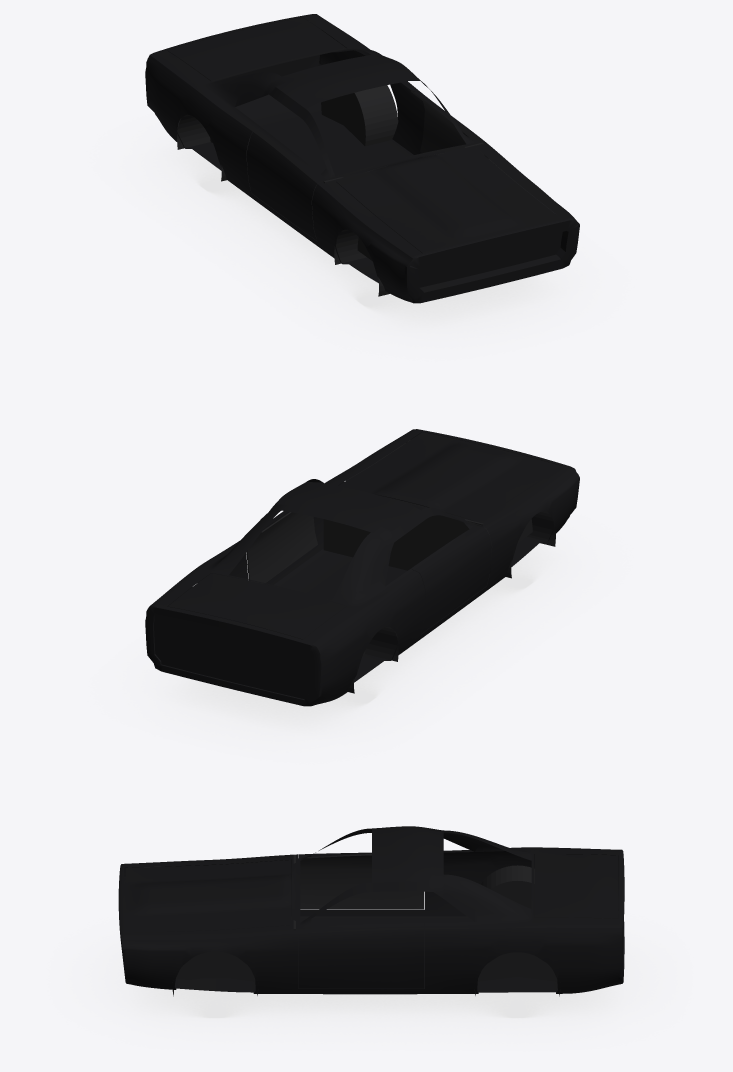
The model's file is carroceria.glb.
3 renders of one model, top to bottom at view 1: azimuth 30°, elevation 25°; view 2: azimuth 150°, elevation 25°; view 3: azimuth 270°, elevation 25°, orthographic. The views are drawn at different scales.
Parts seen in each view (by area): view 1: carroceria, piso_sombra, capot, baul, pasaruedas, puerta_der, puerta_izq; view 2: carroceria, piso_sombra, capot, baul, puerta_der, vano_motor, puerta_izq, pasaruedas; view 3: carroceria, piso_sombra, capot, puerta_izq, baul, puerta_der, pasaruedas, vano_motor.
Part boxes in pixels (box(x1,y1,x2,y2)): carroceria: box(145, 14, 579, 303); piso_sombra: box(146, 138, 577, 337); capot: box(336, 147, 561, 253); baul: box(168, 17, 346, 81); pasaruedas: box(177, 85, 398, 296); puerta_der: box(246, 127, 328, 240); puerta_izq: box(411, 90, 488, 158); carroceria: box(145, 429, 579, 706); piso_sombra: box(145, 538, 577, 739); capot: box(338, 432, 561, 521); baul: box(168, 573, 346, 639); puerta_der: box(411, 524, 491, 633); vano_motor: box(323, 440, 532, 570); puerta_izq: box(246, 511, 317, 583); pasaruedas: box(348, 511, 555, 693); carroceria: box(118, 826, 624, 994); piso_sombra: box(94, 944, 652, 1032); capot: box(125, 860, 291, 933); puerta_izq: box(298, 923, 424, 988); baul: box(534, 854, 618, 918); puerta_der: box(298, 852, 424, 909); pasaruedas: box(172, 865, 560, 996); vano_motor: box(144, 854, 295, 978).
Size of what is drawn, in the model's own units: 3.4 by 1.29 by 6.4.
Materials: 3 (1 with a texture image).
